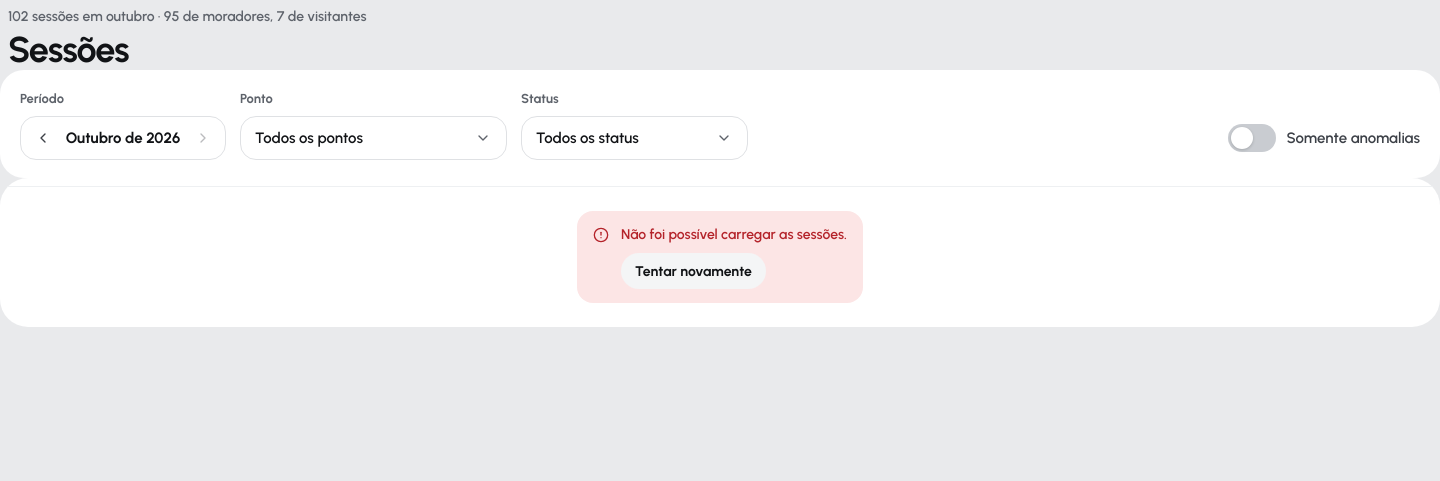
Test: SessionsRoute › lets the manager retry when the sessions fail to load
Expected: the message shows "Não foi possível carregar as sessões.", [621, 226, 847, 243]
Click the button "Tentar novamente".
click(694, 271)  # box [621, 253, 766, 289]
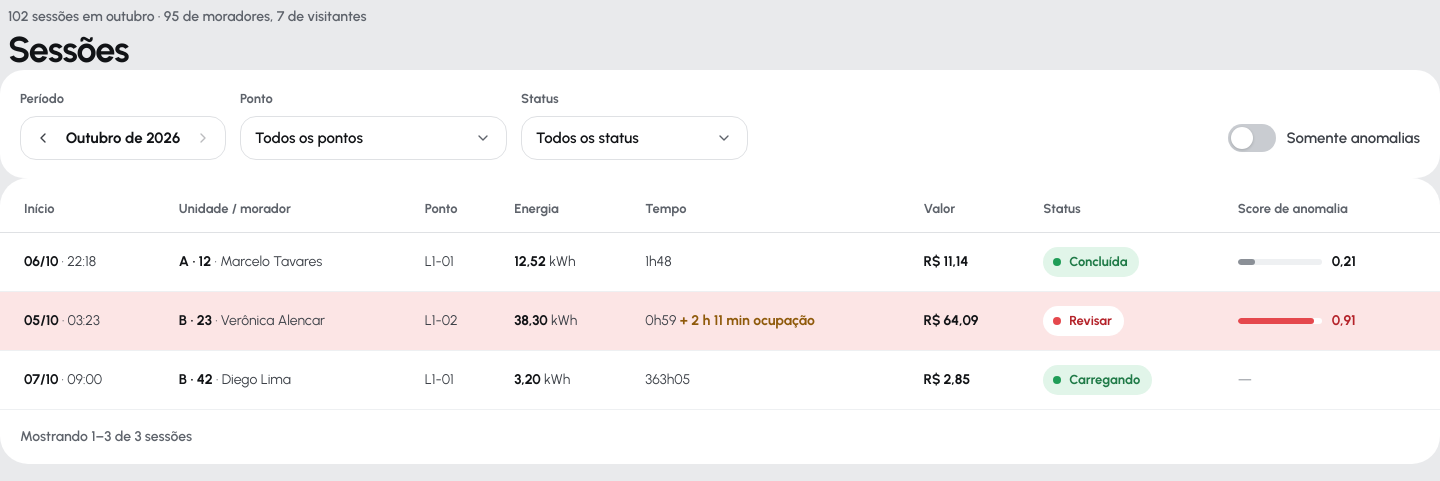
Expected: the table named "Sessões" is shown, [0, 186, 1439, 410]
